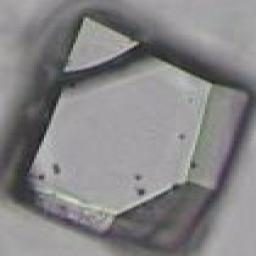crystals: (6, 13, 254, 255)
